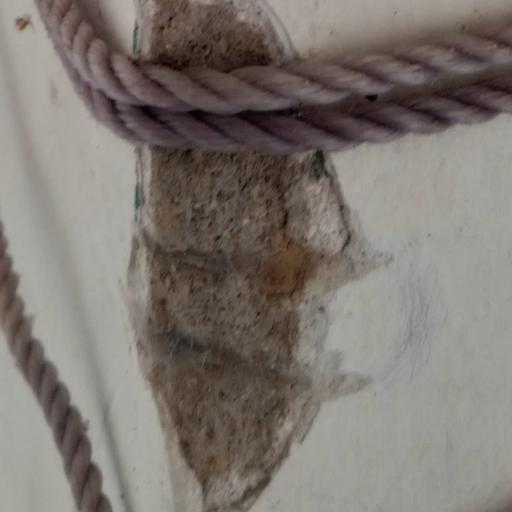spalling: (111, 0, 396, 512)
